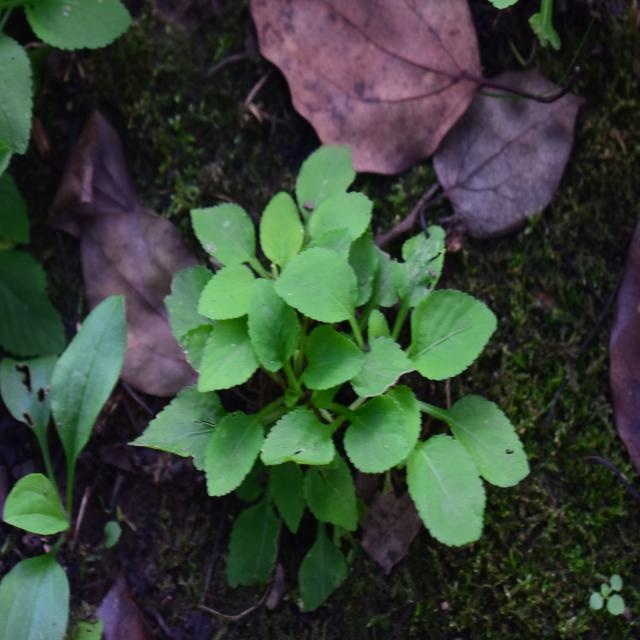Viola: (223, 212, 523, 558), (162, 167, 363, 493)
